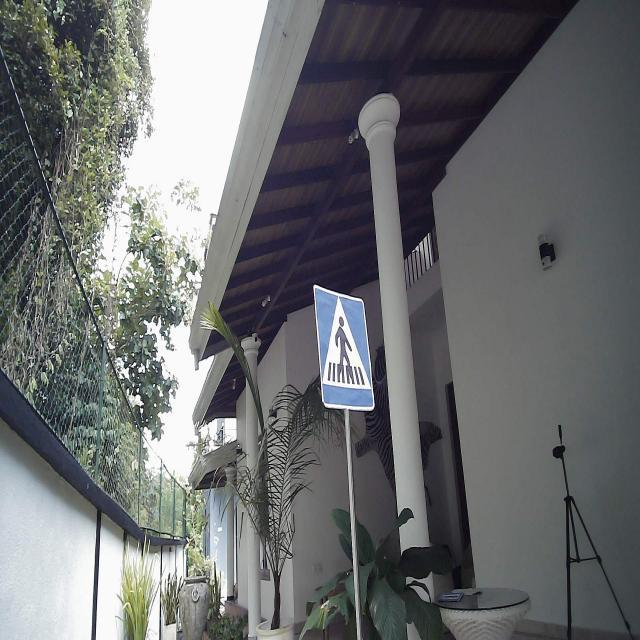crosswalk_sign: (312, 281, 376, 414)
